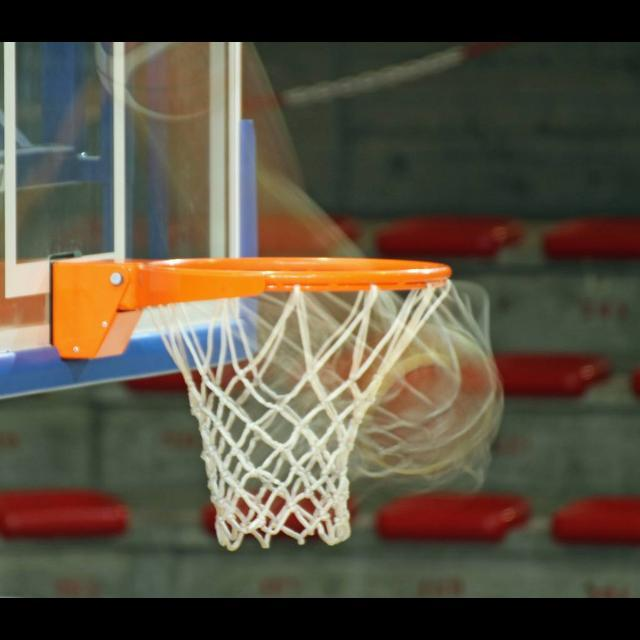rim: (142, 258, 452, 554)
